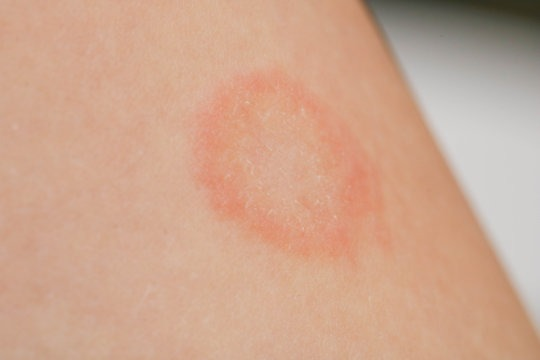Ringworm: (194, 66, 397, 266)
